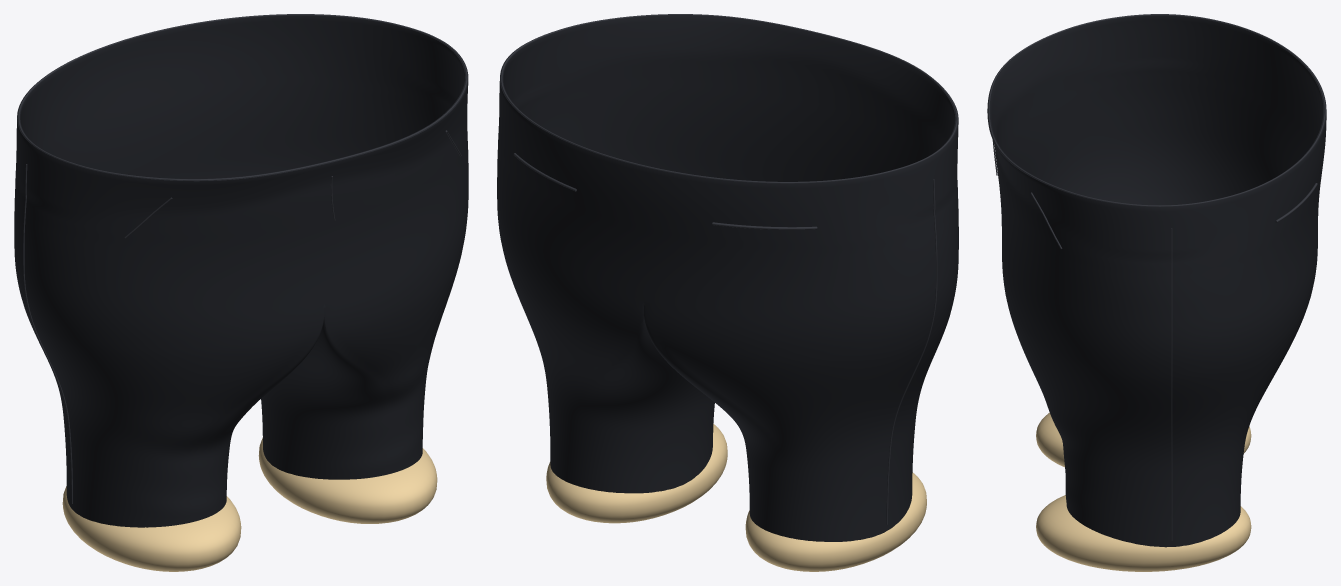
The model's file is Feminine-pants.glb.
3 renders of one model, left to right at view 1: azimuth 30°, elevation 25°; view 2: azimuth 150°, elevation 25°; view 3: azimuth 270°, elevation 25°, orthographic. The views are drawn at different scales.
Parts seen in each view (by area): view 1: Bottom / continuous pants187, Skin / pants foot187 -1, Skin / pants foot187 1, Bottom / pants hem187 0 export, Bottom / side seam187 -1 export; view 2: Bottom / continuous pants187, Skin / pants foot187 1, Skin / pants foot187 -1, Bottom / pants hem187 0 export, Bottom / side seam187 -1 export; view 3: Bottom / continuous pants187, Skin / pants foot187 1, Bottom / pants hem187 0 export, Skin / pants foot187 -1, Bottom / side seam187 1 export.
Boxes of the visible parts, x1=… form: Bottom / continuous pants187: x1=14, y1=15, x2=468, y2=527; Skin / pants foot187 -1: x1=62, y1=486, x2=241, y2=571; Skin / pants foot187 1: x1=258, y1=437, x2=437, y2=523; Bottom / pants hem187 0 export: x1=17, y1=14, x2=467, y2=180; Bottom / side seam187 -1 export: x1=23, y1=164, x2=72, y2=503; Bottom / continuous pants187: x1=497, y1=15, x2=958, y2=541; Skin / pants foot187 1: x1=546, y1=424, x2=727, y2=523; Skin / pants foot187 -1: x1=745, y1=472, x2=926, y2=571; Bottom / pants hem187 0 export: x1=500, y1=14, x2=957, y2=183; Bottom / side seam187 -1 export: x1=886, y1=179, x2=937, y2=524; Bottom / continuous pants187: x1=987, y1=15, x2=1326, y2=547; Skin / pants foot187 1: x1=1036, y1=495, x2=1251, y2=571; Bottom / pants hem187 0 export: x1=988, y1=14, x2=1325, y2=206; Skin / pants foot187 -1: x1=1036, y1=412, x2=1251, y2=467; Bottom / side seam187 1 export: x1=1171, y1=228, x2=1172, y2=540.
Bounding box in the file's own units: 0.6015 × 0.571 × 0.4376.
